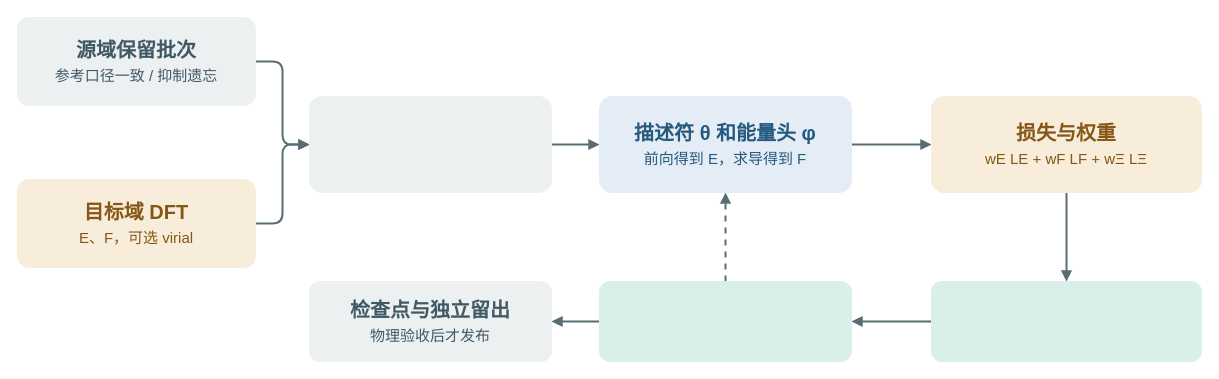
Some shapes in this 1219 by 379 pixel diagram are drawn without their labels. The shapes that lost their labels are listed below. From the top down, each one's centre as x and y in pixels, then its label:
At point (430, 144): "按系统组批 元素映射、原子数、掩码".
At point (725, 321): "更新开放的参数 梯度回传到选定模块".
At point (1066, 321): "优化器反向传播 全量、LoRA 或冻结参数".
